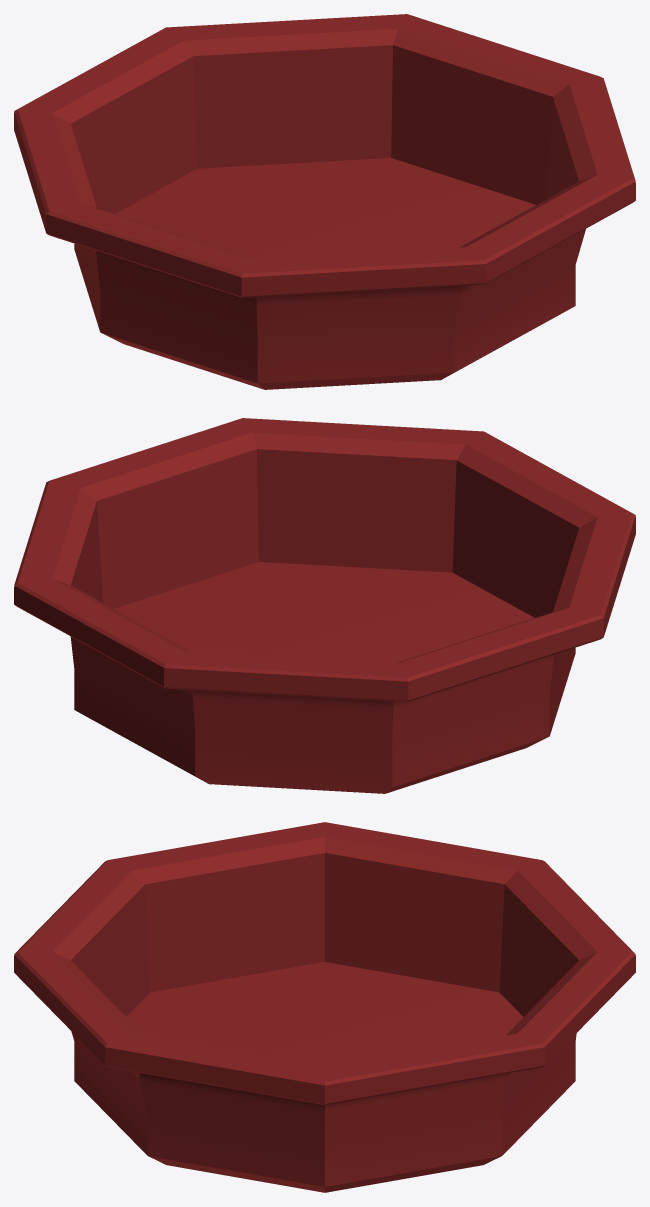
Rendered from rubberBowl.fbx.
3 views of the same model, one above another, from view 1: azimuth 30°, elevation 25°; view 2: azimuth 150°, elevation 25°; view 3: azimuth 270°, elevation 25° (orthographic). The views are drawn at different scales.
Parts seen in each view (by area): view 1: pCylinder2; view 2: pCylinder2; view 3: pCylinder2.
Part boxes in pixels (<box>): pCylinder2: <box>14,14,635,389</box>; pCylinder2: <box>14,418,635,793</box>; pCylinder2: <box>14,822,635,1192</box>.
Size of the model in its own units: 2.4 by 0.6227 by 2.4.
